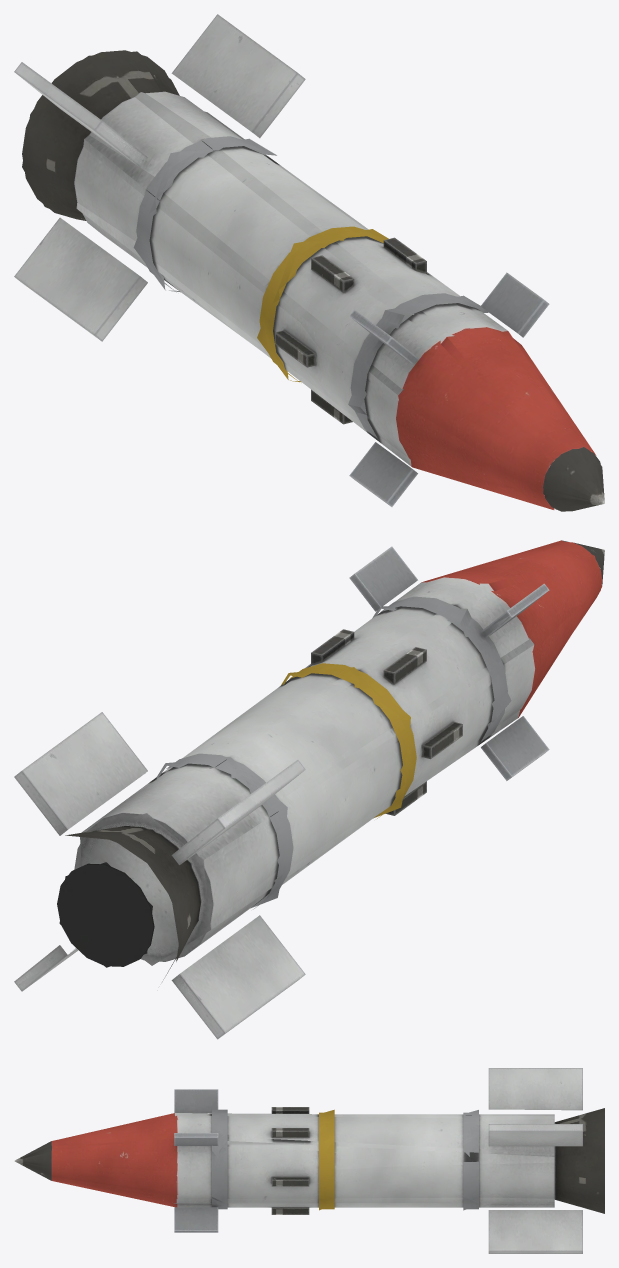
File: sd_prop_rocket_guided.glb
3 renders of one model, top to bottom at view 1: azimuth 30°, elevation 25°; view 2: azimuth 150°, elevation 25°; view 3: azimuth 270°, elevation 25°, orthographic. The views are drawn at different scales.
Visible parts, largest first — view 1: LOD0_body, LOD1_body; view 2: LOD0_body, LOD1_body; view 3: LOD0_body, LOD1_body.
Part boxes in pixels (bbox=[...]): LOD0_body: bbox=[14, 14, 604, 511]; LOD1_body: bbox=[22, 51, 604, 509]; LOD0_body: bbox=[14, 542, 604, 1039]; LOD1_body: bbox=[18, 540, 604, 1033]; LOD0_body: bbox=[14, 1068, 604, 1253]; LOD1_body: bbox=[17, 1109, 604, 1211].
Size of the model in its own units: 0.2422 by 0.2422 by 1.
Materials: 1 (1 with a texture image).
